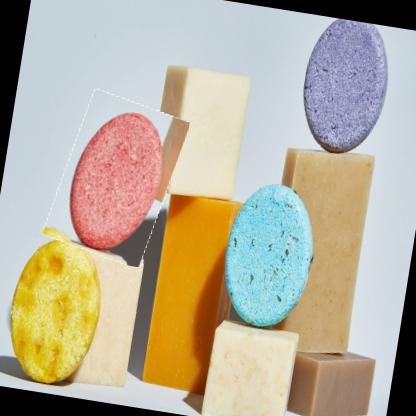soap: (46, 88, 186, 268)
